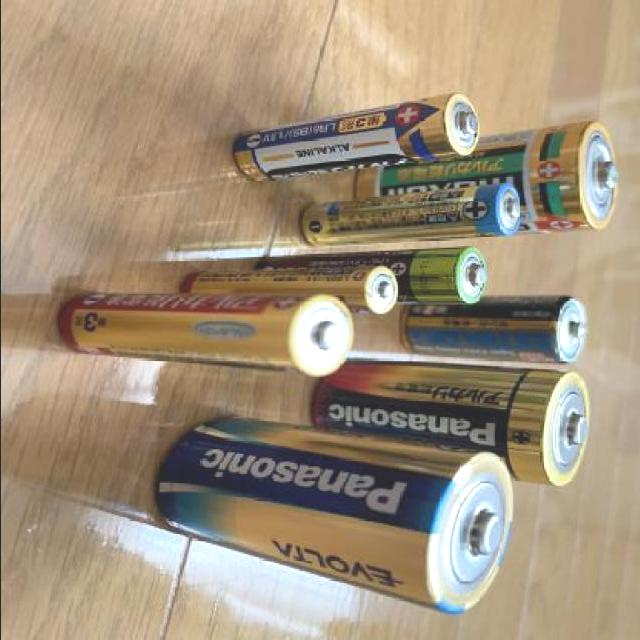AA: (55, 289, 363, 380), (227, 92, 483, 185)
AAA: (297, 183, 520, 251)
